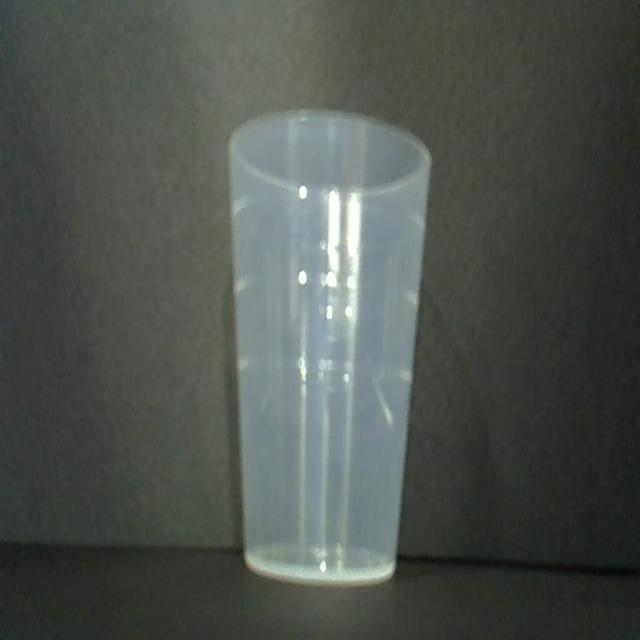cup: (228, 106, 430, 581)
